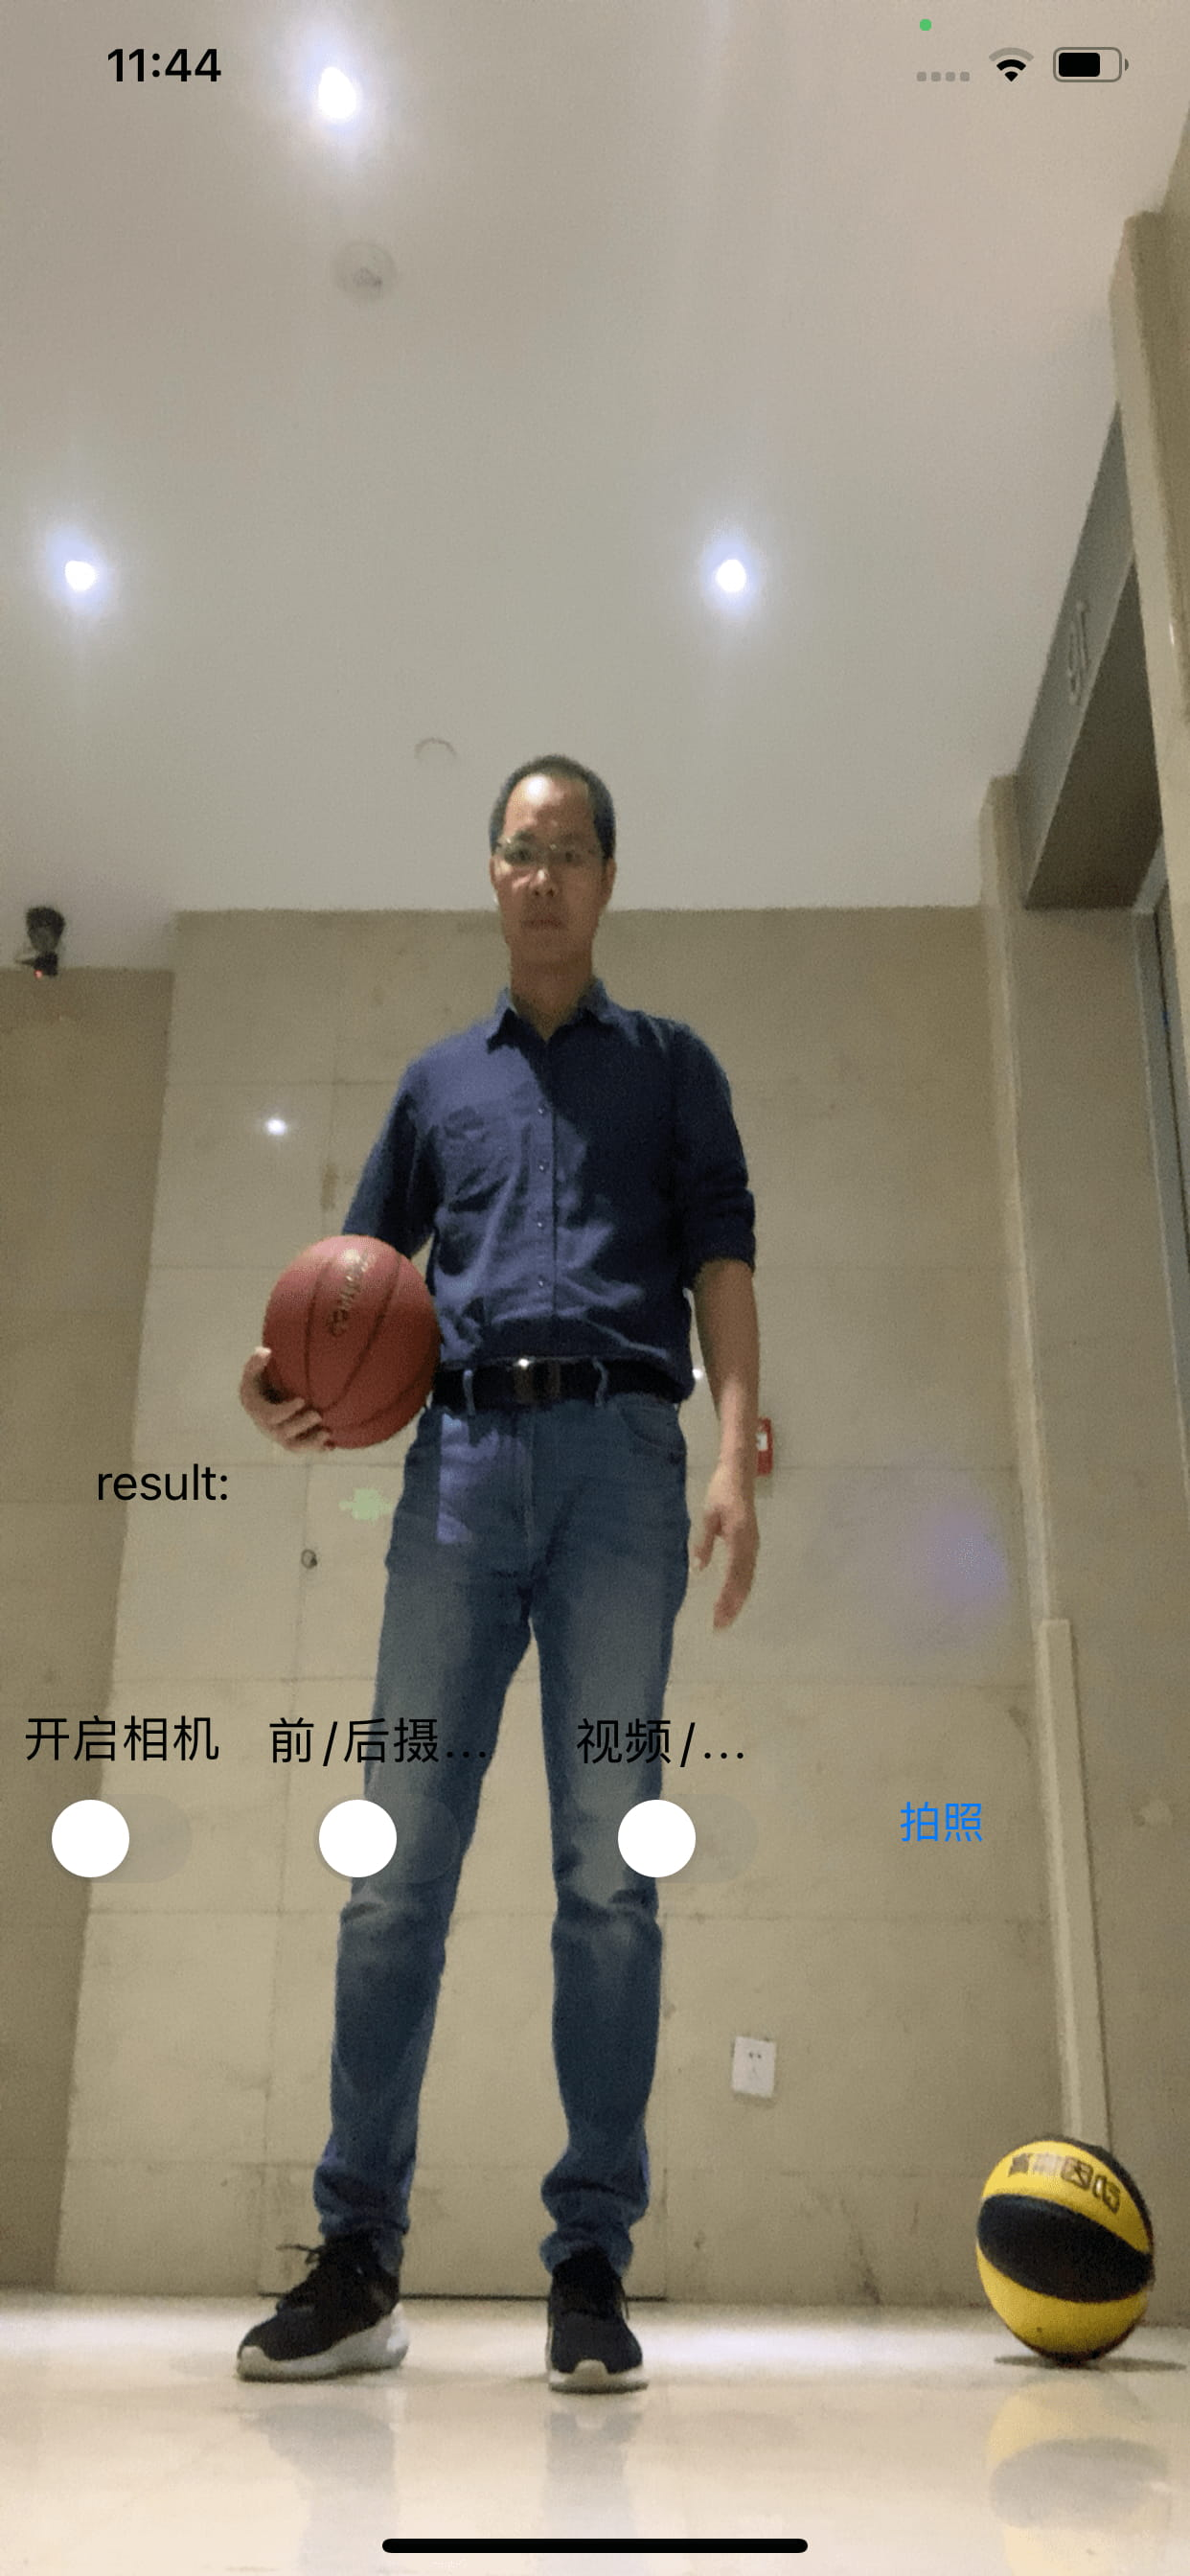ball: (973, 2132, 1155, 2376), (261, 1235, 442, 1446)
